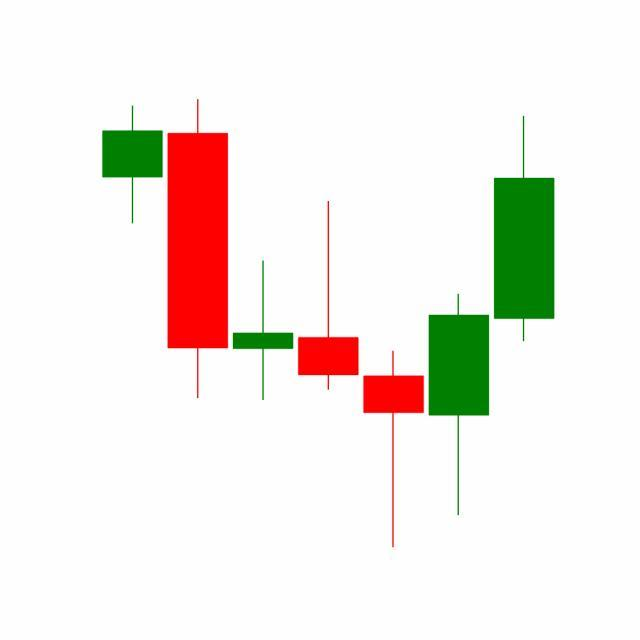Three Outside Up-Down: (360, 111, 556, 548)
